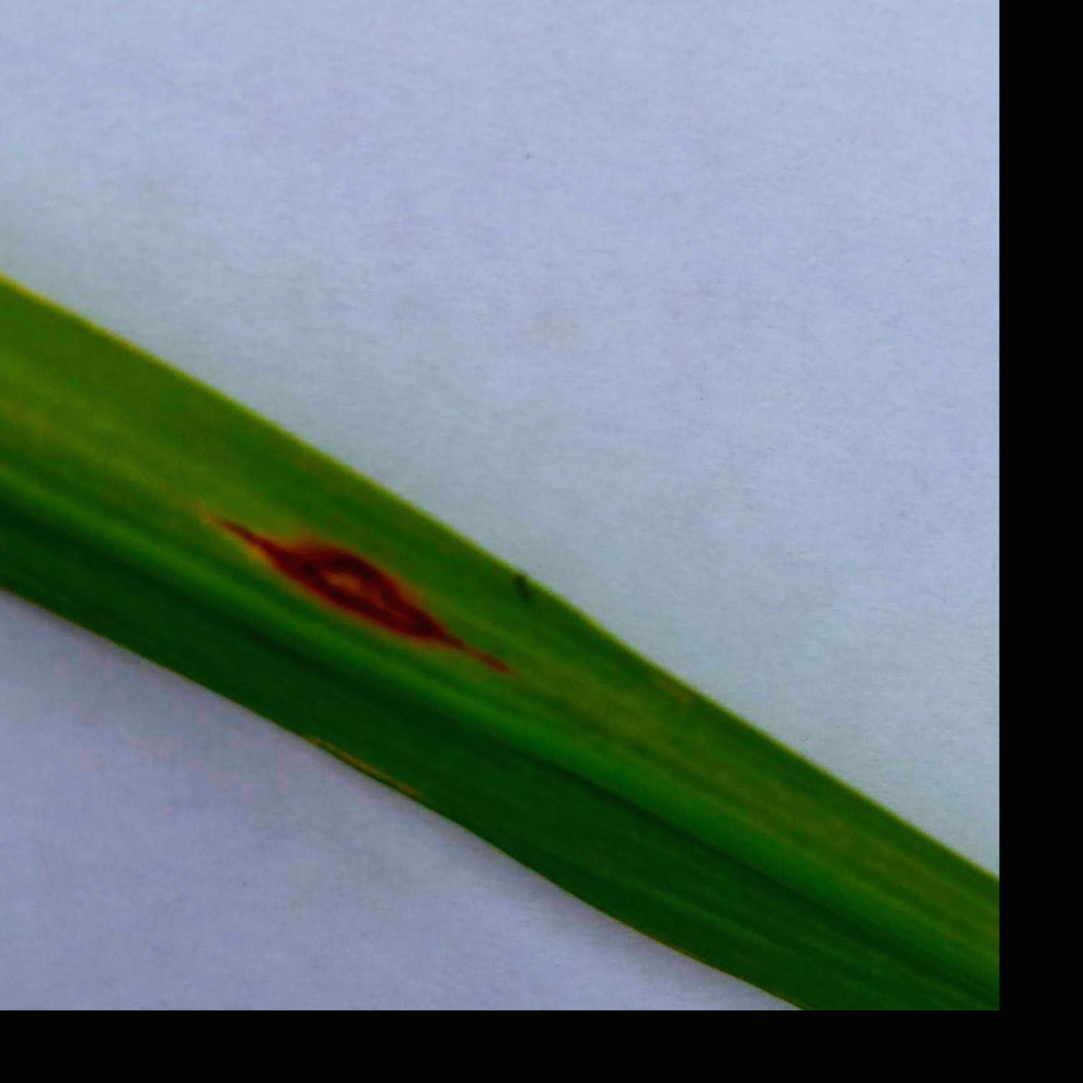Brown_Spot: (196, 413, 532, 708)
